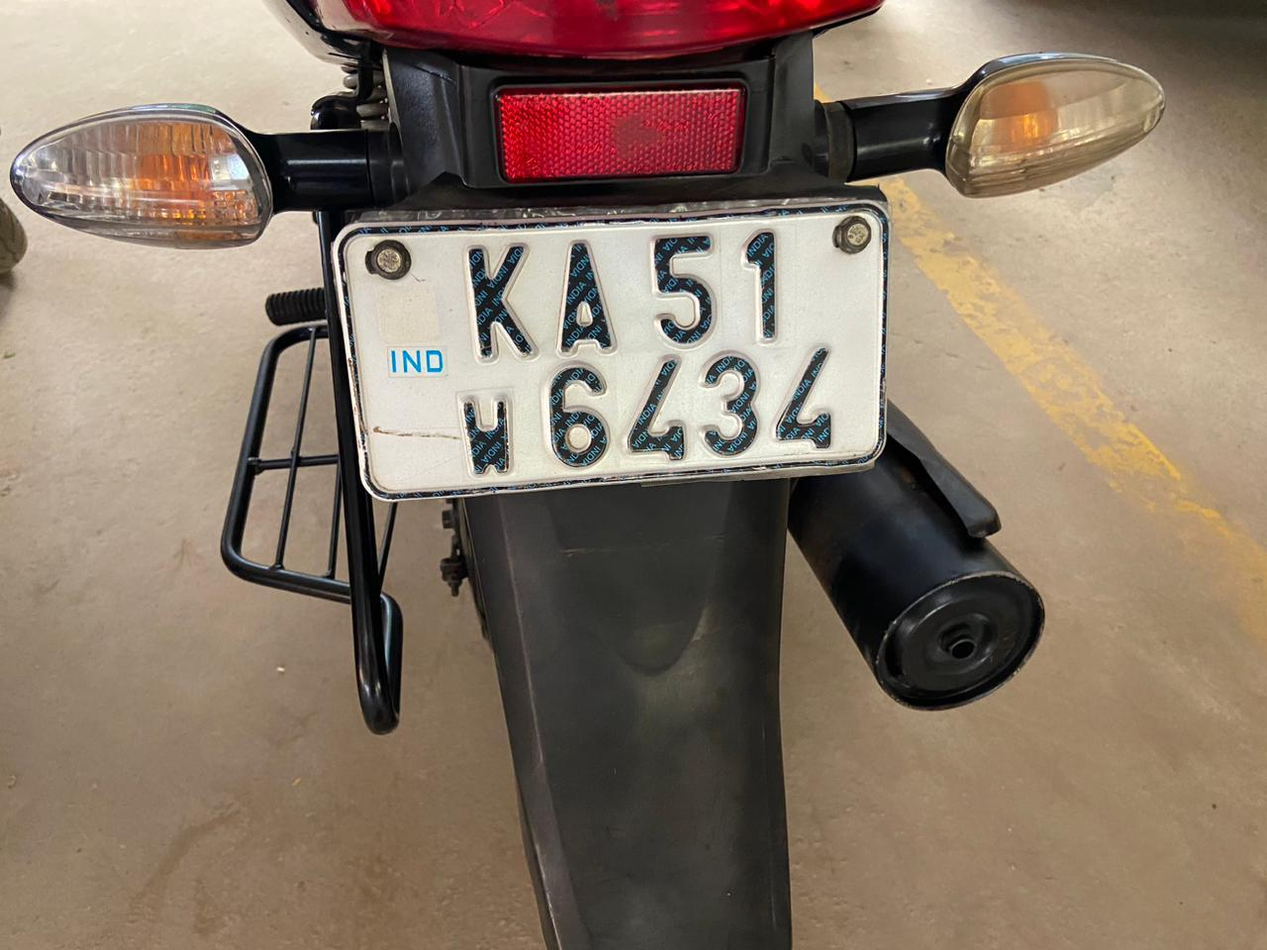1: (735, 216, 802, 352)
3: (697, 345, 761, 469)
4: (772, 335, 851, 464), (622, 349, 696, 472)
5: (642, 218, 722, 347)
6: (541, 357, 617, 478)
A: (555, 230, 617, 361)
K: (456, 232, 544, 367)
W: (450, 378, 527, 482)
